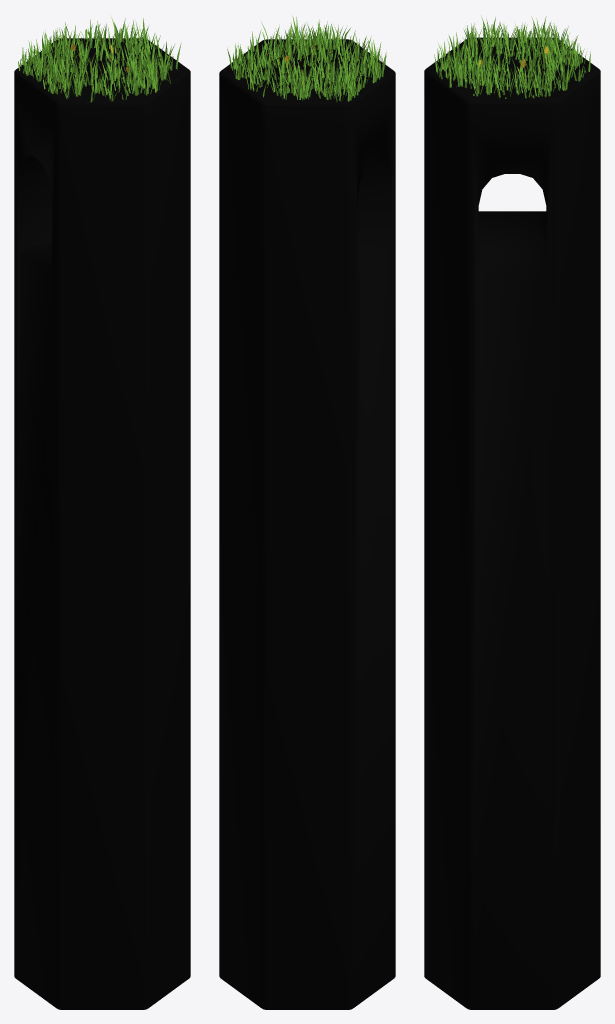
File: New_Tile.fbx
3 views of the same model, side by side, from view 1: azimuth 30°, elevation 25°; view 2: azimuth 150°, elevation 25°; view 3: azimuth 270°, elevation 25° (orthographic).
Parts seen in each view (by area): view 1: tile_12_11, Grass_; view 2: tile_12_11, Grass_; view 3: tile_12_11, Grass_.
Part boxes in pixels (x1,y1,x2,y2): tile_12_11: [14, 38, 190, 1009]; Grass_: [18, 17, 181, 102]; tile_12_11: [219, 39, 395, 1009]; Grass_: [227, 16, 386, 102]; tile_12_11: [424, 37, 600, 1009]; Grass_: [434, 15, 590, 98].
Size of the model in its own units: 693 by 4608 by 788.
